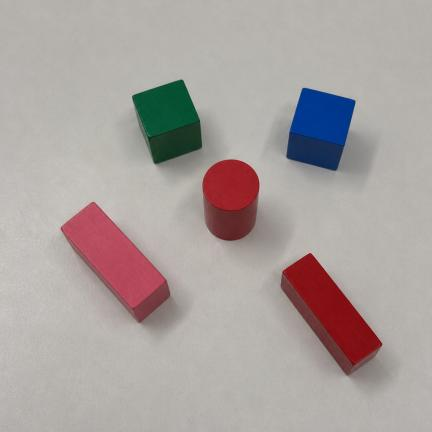BuildingBlocks: (62, 203, 170, 321), (281, 254, 381, 374), (133, 80, 201, 163), (287, 89, 355, 170), (203, 160, 259, 240)
